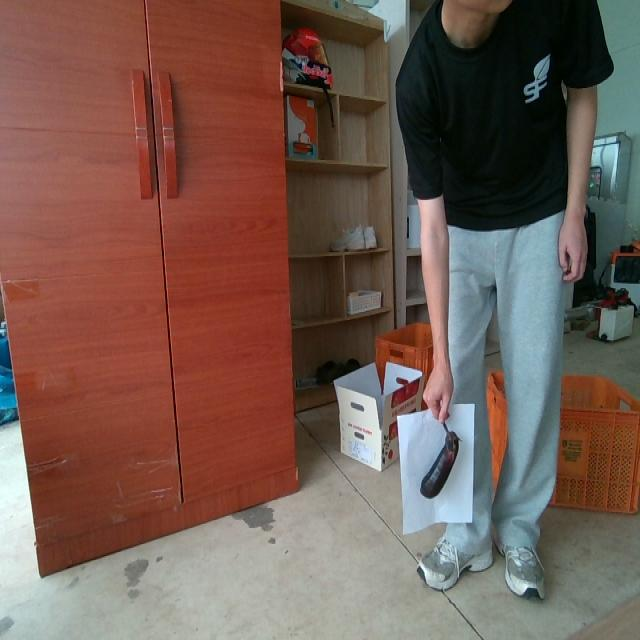Egg plant: (420, 424, 458, 497)
